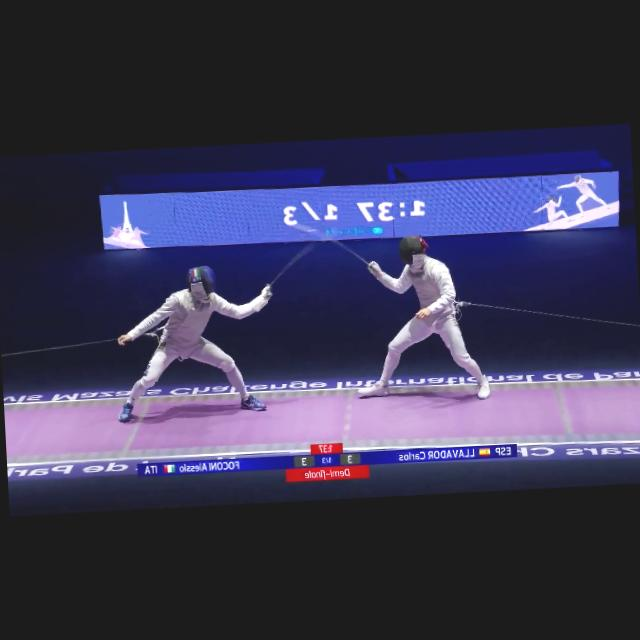blade: (287, 213, 378, 277), (260, 239, 324, 296)
